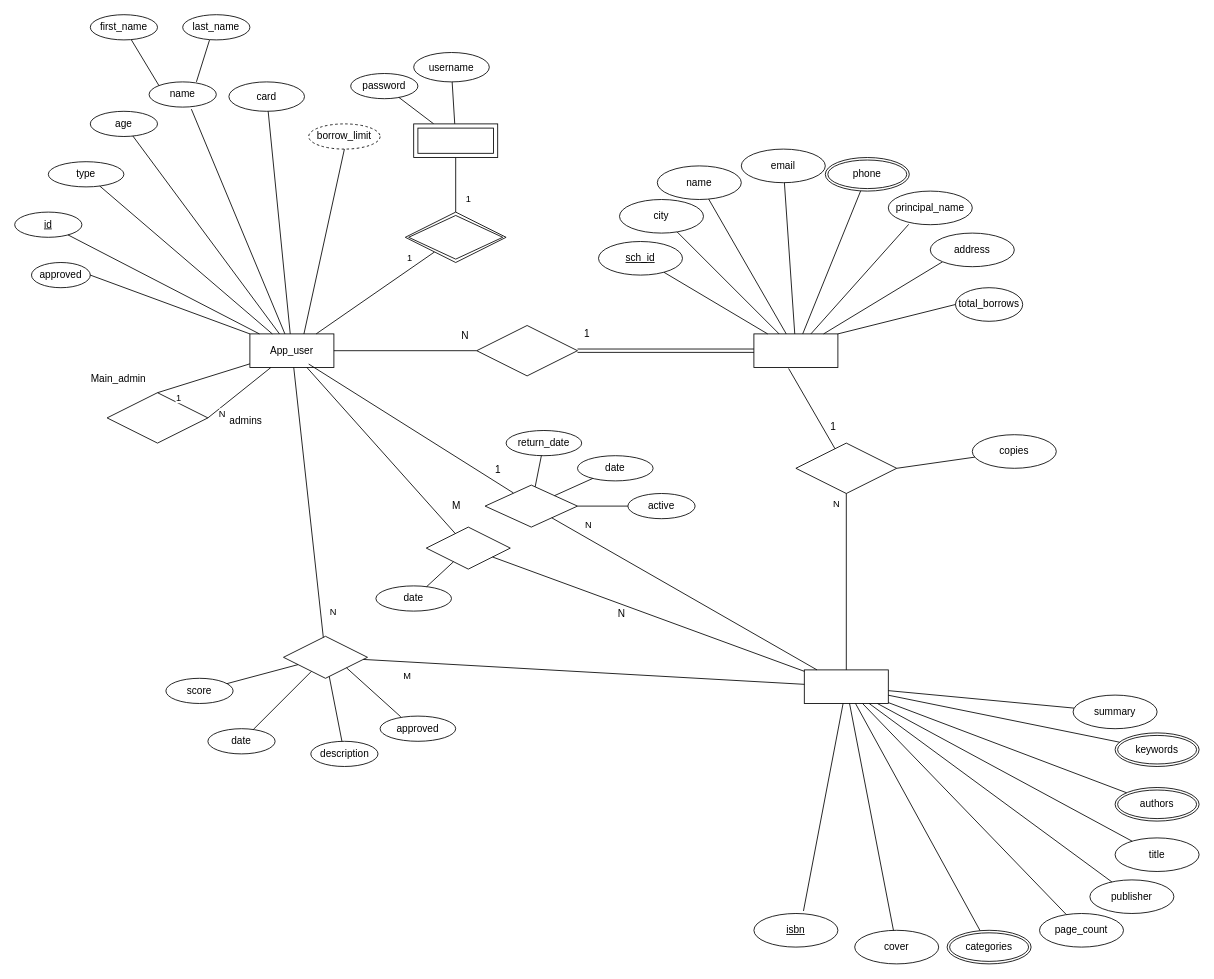
Some shapes in this 1214 by 979 pixel diagram are drawn without their labels. The shapes that lost their labels are listed below. From the top down, each one's box as (x1, y1, x2, y2) in pixels, then its label:
(413, 123, 498, 158): authentication
(404, 211, 506, 262): logins
(476, 325, 578, 376): belong to
(753, 333, 838, 368): school
(106, 392, 208, 443): admins_approval
(795, 442, 897, 494): stores
(484, 484, 578, 527): borrow
(425, 526, 510, 569): request
(283, 635, 368, 678): review
(803, 669, 888, 704): books
